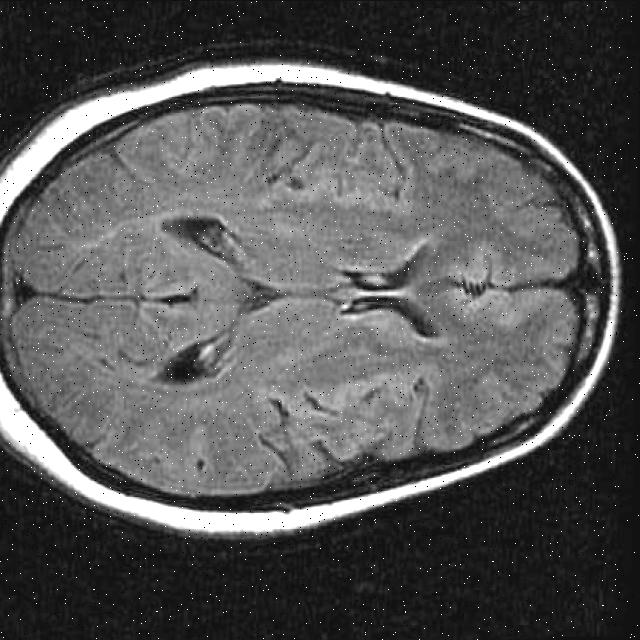NoTumor: (0, 46, 627, 538)
